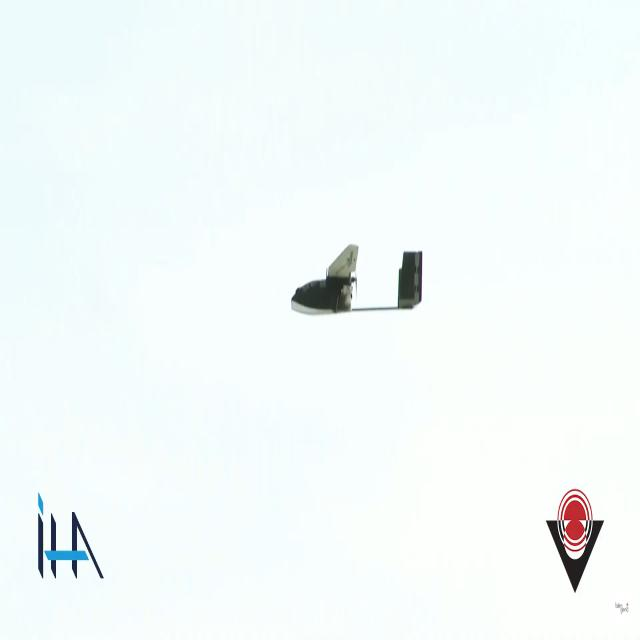iha: (293, 278, 421, 282)
